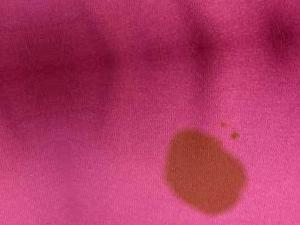stain: (163, 127, 250, 218), (227, 131, 244, 144), (217, 119, 231, 129)
